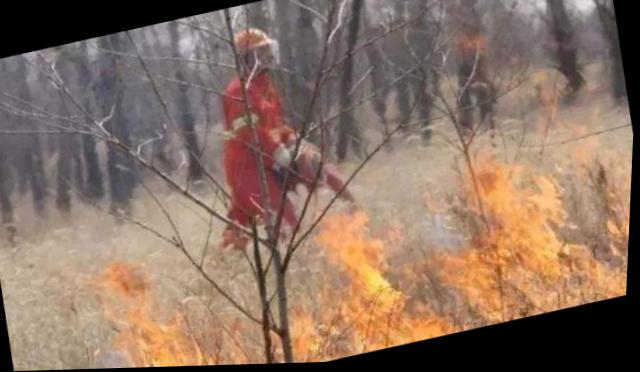fire: (95, 148, 633, 368)
